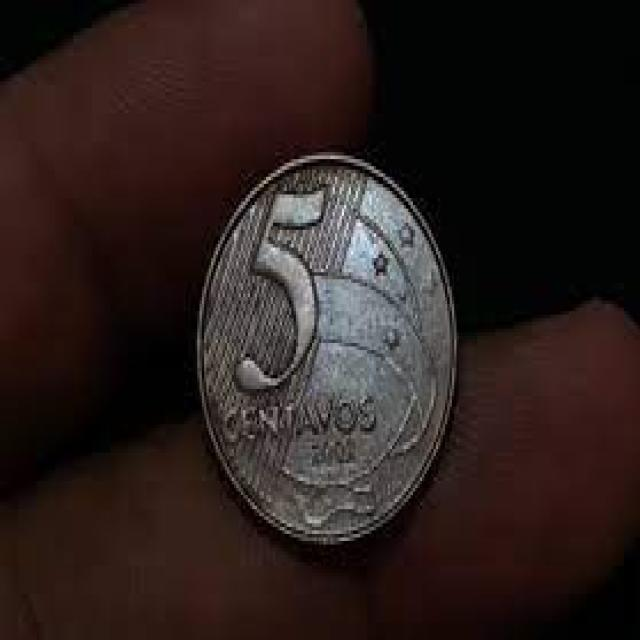5 cent: (200, 154, 459, 547)
